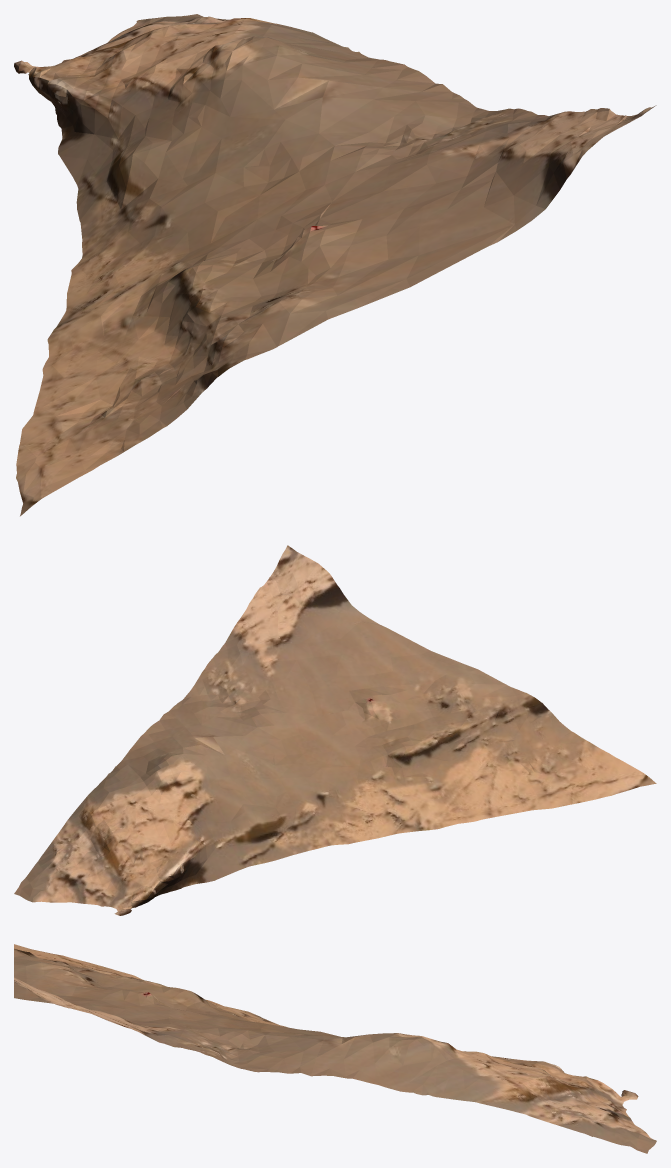
The picture shows the model from 3 angles, top to bottom: view 1: azimuth 30°, elevation 25°; view 2: azimuth 150°, elevation 25°; view 3: azimuth 270°, elevation 25°; orthographic projection. The views are drawn at different scales.
Size of the model in its own units: 0.6585 by 0.253 by 0.8574.
1 material, 1 textured.
